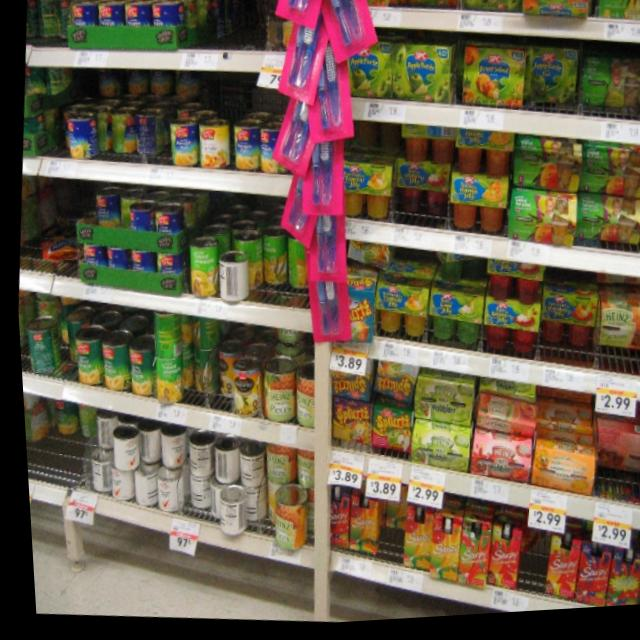q121: (454, 50, 524, 121)
